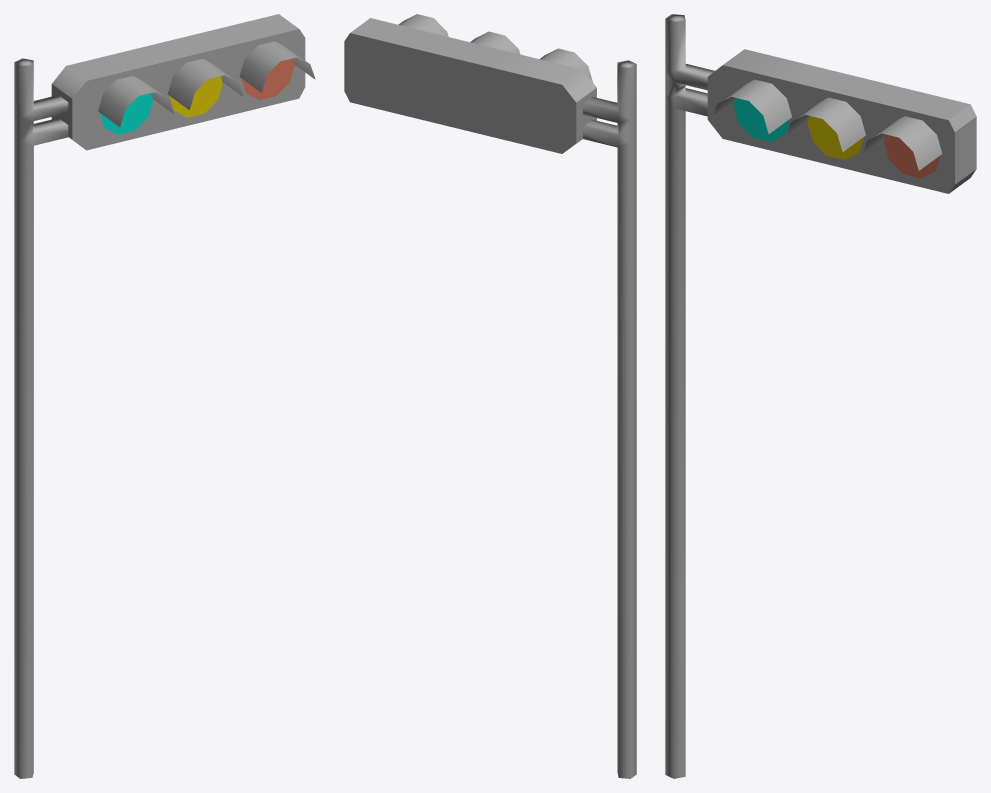
File: singou.fbx
3 views of the same model, side by side, from view 1: azimuth 30°, elevation 25°; view 2: azimuth 150°, elevation 25°; view 3: azimuth 330°, elevation 25° (orthographic). The views are drawn at different scales.
Visible parts, largest first — view 1: polySurface24; view 2: polySurface24; view 3: polySurface24.
Part boxes in pixels (left/top/right/bottom): polySurface24: left=14, top=14, right=315, bottom=778; polySurface24: left=344, top=14, right=636, bottom=778; polySurface24: left=665, top=14, right=976, bottom=778.
Bounding box in the file's own units: 18.02 × 44 × 4.78.
